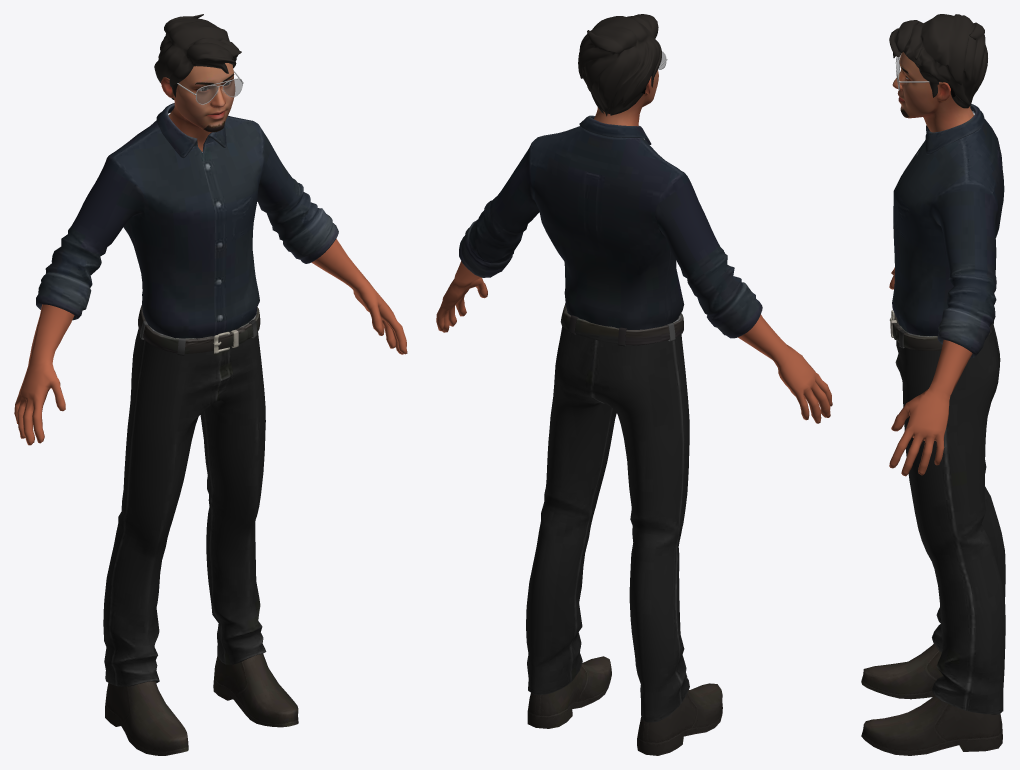
The model's file is glassluis.glb.
The picture shows the model from 3 angles, left to right: view 1: azimuth 30°, elevation 25°; view 2: azimuth 150°, elevation 25°; view 3: azimuth 270°, elevation 25°; orthographic projection.
Parts seen in each view (by area): view 1: Wolf3D_Outfit_Bottom, Wolf3D_Outfit_Top, Wolf3D_Outfit_Footwear, Wolf3D_Body, Wolf3D_Hair, Wolf3D_Head, Wolf3D_Glasses; view 2: Wolf3D_Outfit_Bottom, Wolf3D_Outfit_Top, Wolf3D_Outfit_Footwear, Wolf3D_Hair, Wolf3D_Body, Wolf3D_Head; view 3: Wolf3D_Outfit_Bottom, Wolf3D_Outfit_Top, Wolf3D_Outfit_Footwear, Wolf3D_Hair, Wolf3D_Body, Wolf3D_Head.
Part boxes in pixels (x1=…): Wolf3D_Outfit_Bottom: x1=103, y1=305, x2=266, y2=686; Wolf3D_Outfit_Top: x1=36, y1=103, x2=338, y2=338; Wolf3D_Outfit_Footwear: x1=105, y1=653, x2=298, y2=755; Wolf3D_Body: x1=14, y1=239, x2=407, y2=445; Wolf3D_Hair: x1=154, y1=14, x2=241, y2=99; Wolf3D_Head: x1=161, y1=63, x2=235, y2=151; Wolf3D_Glasses: x1=177, y1=71, x2=243, y2=104; Wolf3D_Outfit_Bottom: x1=526, y1=303, x2=689, y2=722; Wolf3D_Outfit_Top: x1=459, y1=115, x2=762, y2=338; Wolf3D_Outfit_Footwear: x1=527, y1=656, x2=722, y2=755; Wolf3D_Hair: x1=578, y1=14, x2=661, y2=116; Wolf3D_Body: x1=436, y1=261, x2=832, y2=423; Wolf3D_Head: x1=594, y1=70, x2=658, y2=126; Wolf3D_Outfit_Bottom: x1=889, y1=310, x2=1005, y2=714; Wolf3D_Outfit_Top: x1=892, y1=104, x2=1004, y2=357; Wolf3D_Outfit_Footwear: x1=861, y1=644, x2=1002, y2=755; Wolf3D_Hair: x1=889, y1=14, x2=987, y2=108; Wolf3D_Body: x1=889, y1=267, x2=972, y2=476; Wolf3D_Head: x1=892, y1=52, x2=973, y2=132.
Bounding box in the file's own units: 1.06 × 1.86 × 0.3489.
9 materials, 9 textured.
